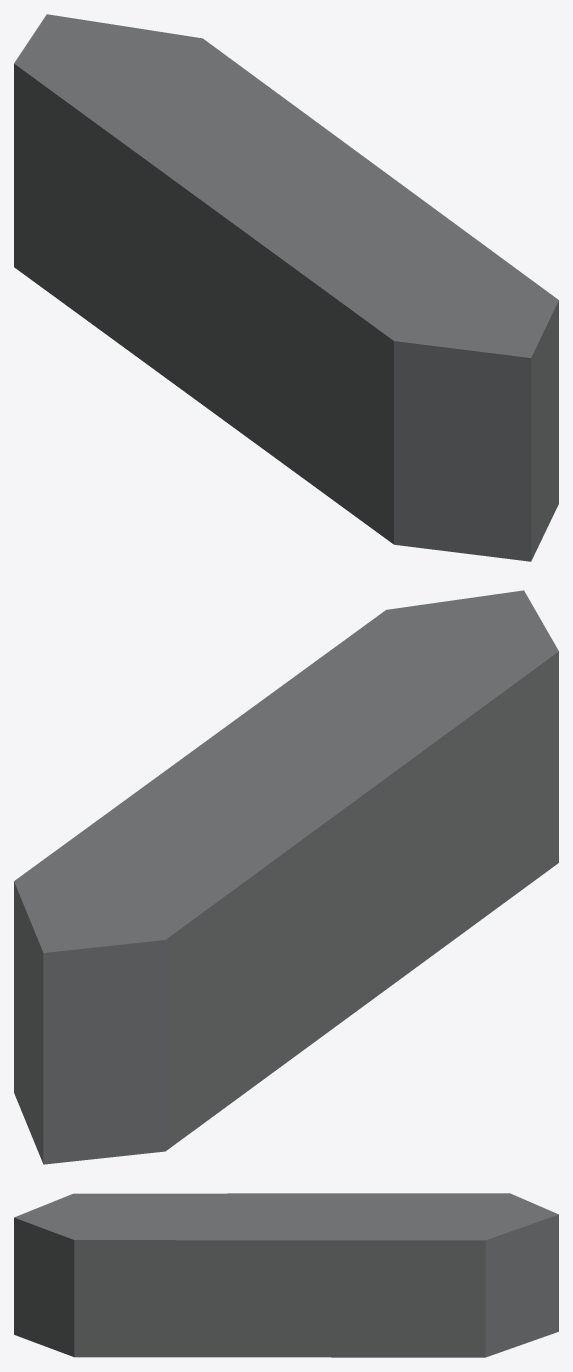
The picture shows the model from 3 angles, top to bottom: view 1: azimuth 30°, elevation 25°; view 2: azimuth 150°, elevation 25°; view 3: azimuth 270°, elevation 25°; orthographic projection. The views are drawn at different scales.
Visible parts, largest first — view 1: 8_4; view 2: 8_4; view 3: 8_4.
Boxes of the visible parts, x1,y1,x2,y2 form: 8_4: (14, 14, 558, 561); 8_4: (14, 590, 558, 1164); 8_4: (14, 1193, 558, 1357).
Bounding box in the file's own units: 0.00932 × 0.0108 × 0.0457.
1 material, 1 textured.
